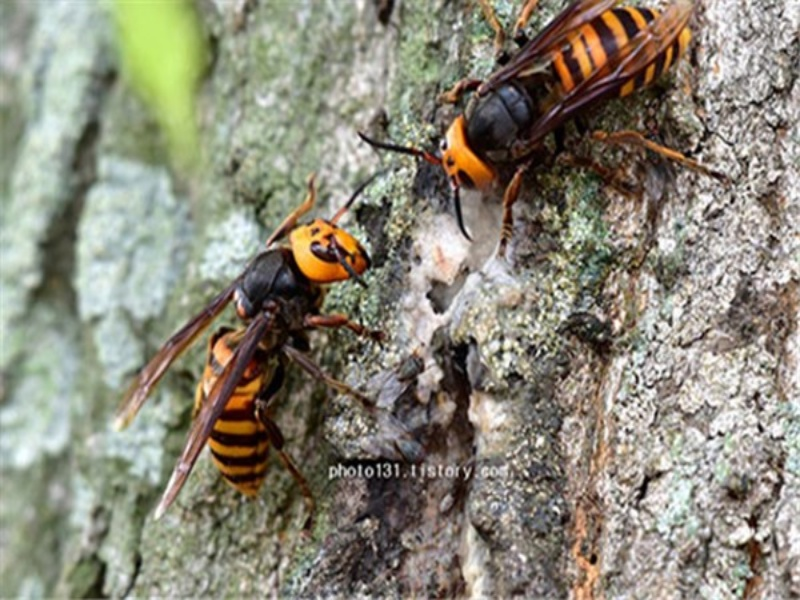asian_giant_hornet: (152, 159, 409, 531), (417, 2, 724, 255)
